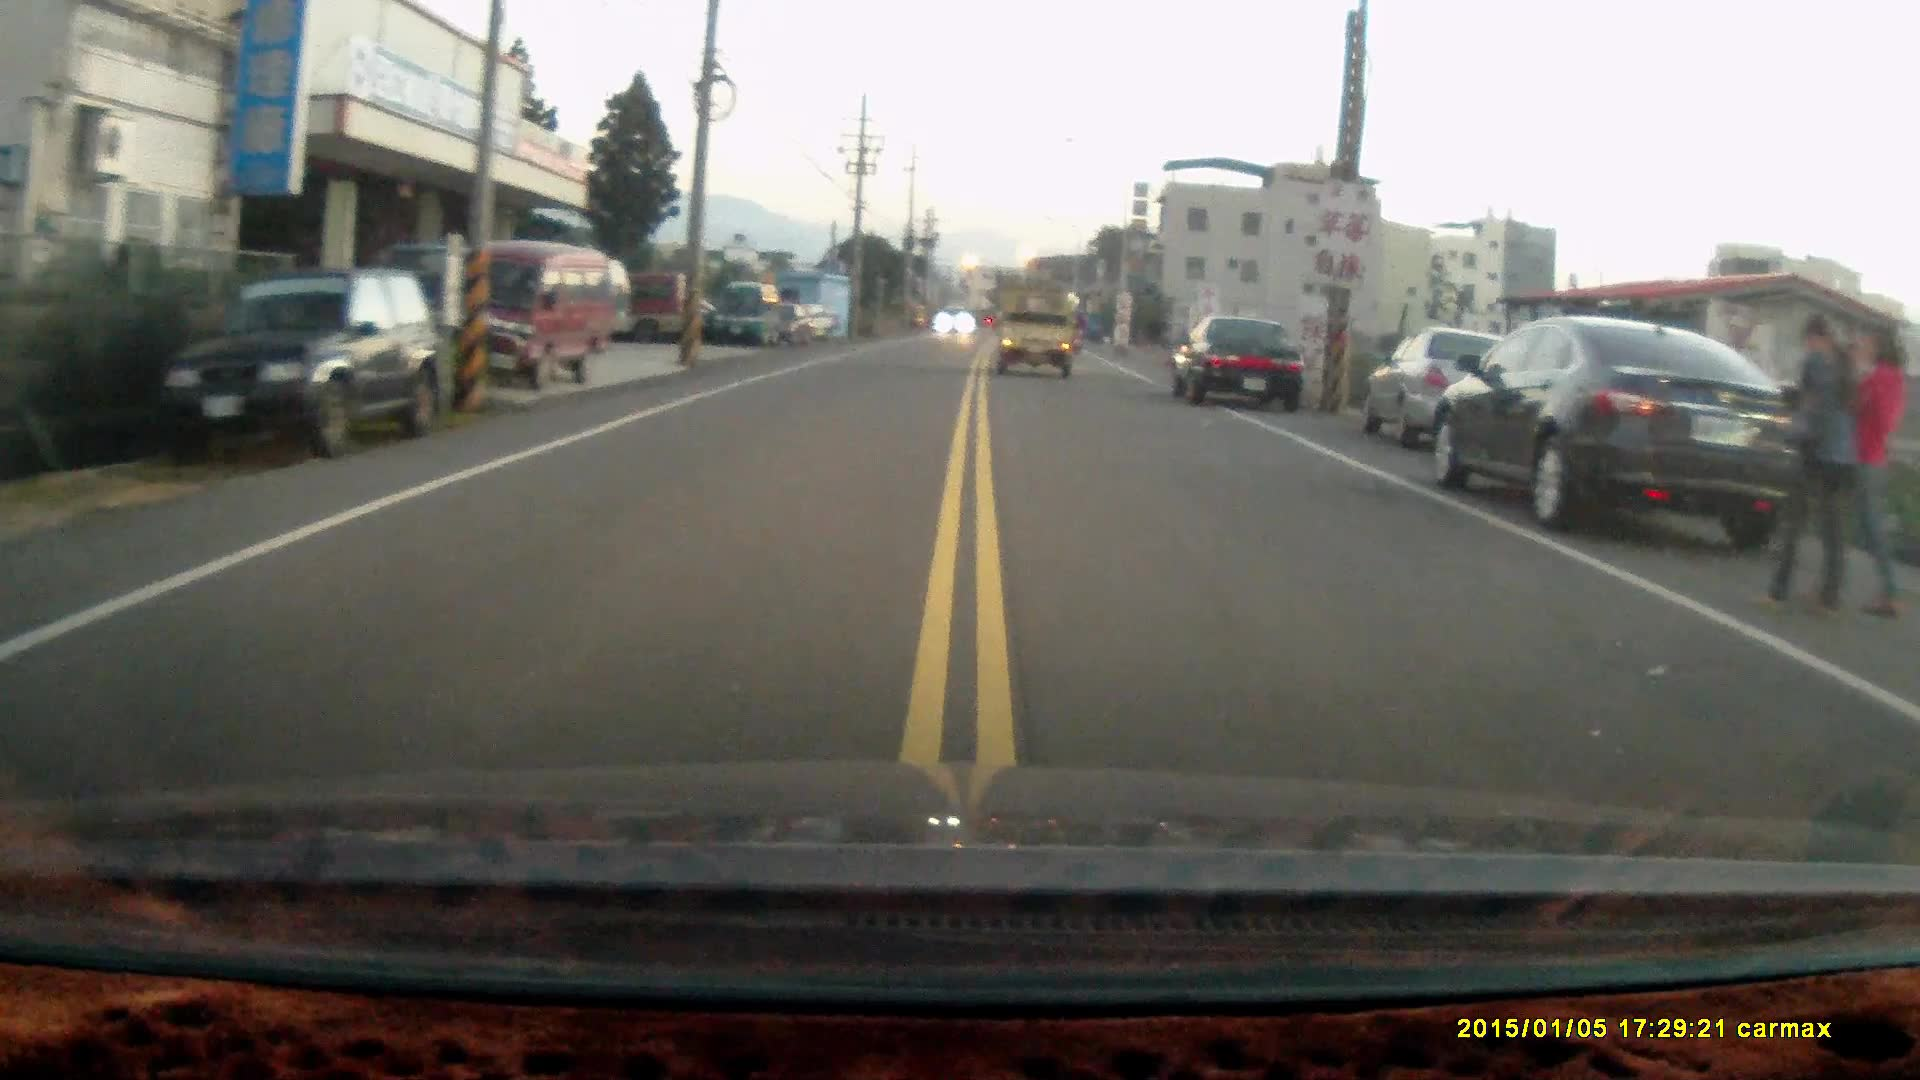pedestrian: (1755, 315, 1854, 619), (1825, 317, 1902, 619)
vehicle: (1430, 319, 1835, 553), (167, 268, 447, 463), (430, 245, 625, 386), (1357, 329, 1521, 457), (1166, 310, 1308, 412), (999, 292, 1082, 380), (712, 283, 785, 349)
